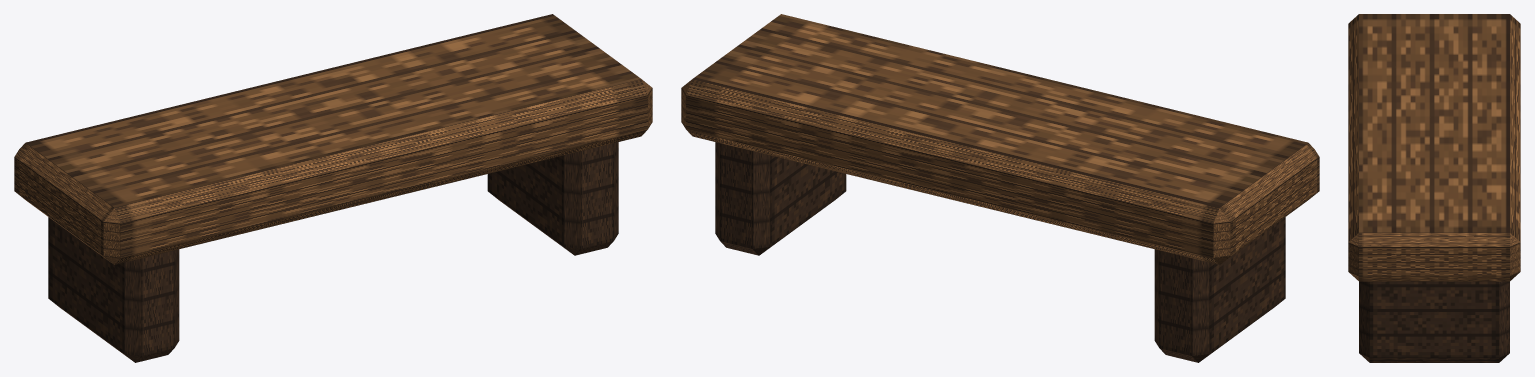
Rendered from prop_bench.fbx.
3 views of the same model, side by side, from view 1: azimuth 30°, elevation 25°; view 2: azimuth 150°, elevation 25°; view 3: azimuth 270°, elevation 25° (orthographic). The views are drawn at different scales.
Visible parts, largest first — view 1: prop_bench; view 2: prop_bench; view 3: prop_bench.
Boxes of the visible parts, x1,y1,x2,y2 form: prop_bench: (14,14,652,362); prop_bench: (681,14,1319,362); prop_bench: (1348,14,1520,362).
Size of the model in its own units: 5 by 1.45 by 1.6.
Materials: 2 (1 with a texture image).
